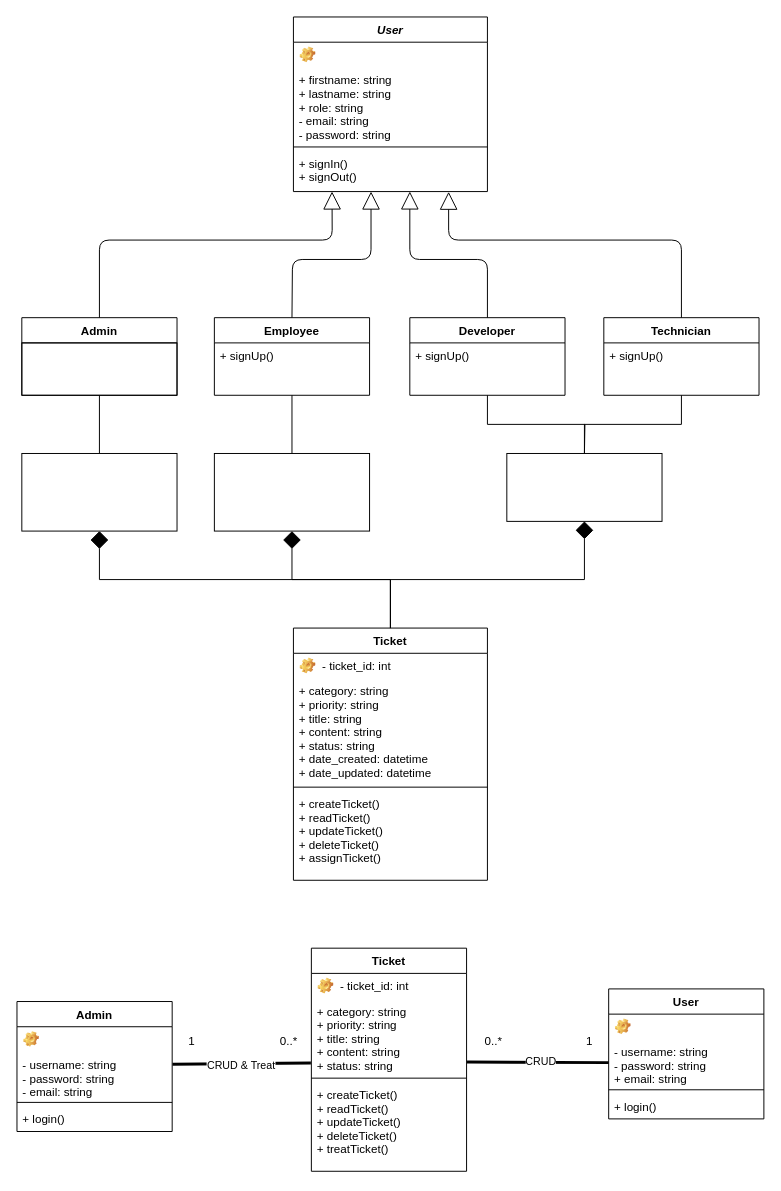
Some shapes in this 781 by 1191 pixel diagram are drawn without their labels. Each missing label, with the centre of its shape:
"+ user_id: int" belongs at (390,54).
"- admin_id: int" belongs at (94,1038).
"- user_id: int" belongs at (685,1026).
"<<Interface>> Ticket Creator + createTicket() + modifyTicket()" belongs at (291,492).
"<<Interface>> Ticket Handler + updateTicket()" belongs at (584,487).
"<<Interface>> Ticket Manager + assignTicket() + deleteTicket()" belongs at (99,492).
